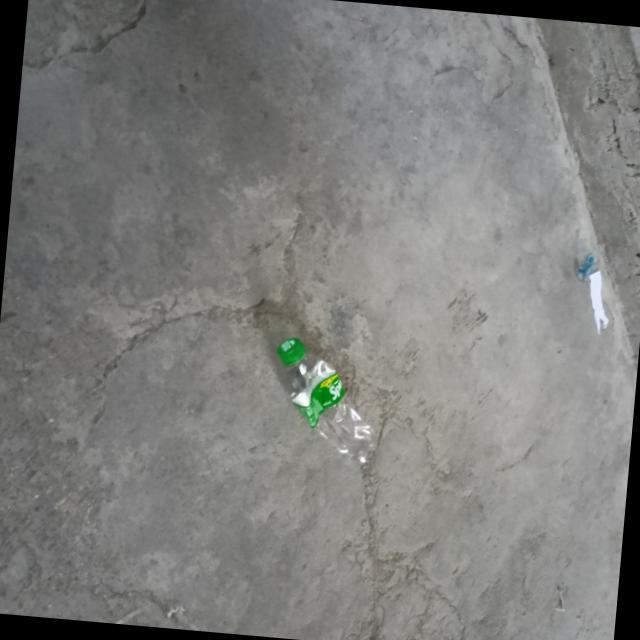Bottle: (275, 337, 371, 463)
